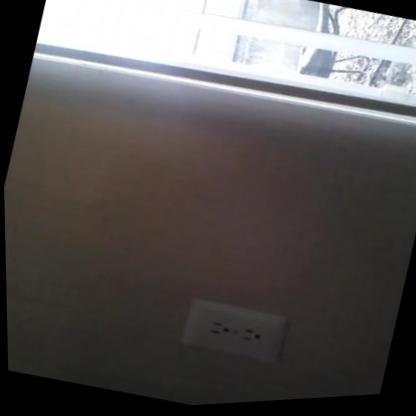OUTLET: (178, 293, 287, 369)
